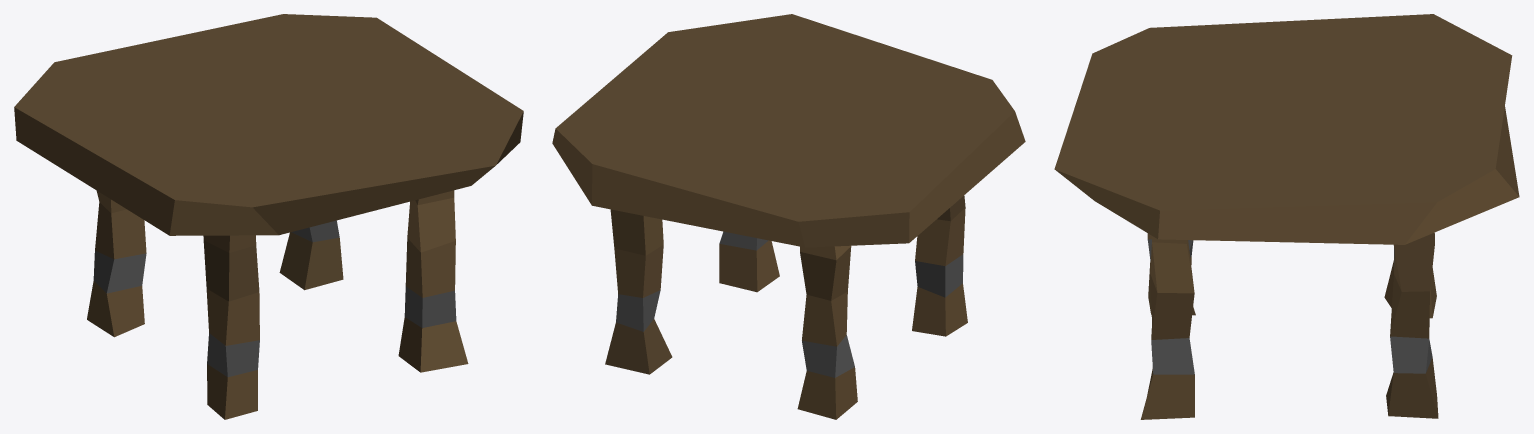
File: FlatChair.fbx
The picture shows the model from 3 angles, left to right: view 1: azimuth 30°, elevation 25°; view 2: azimuth 150°, elevation 25°; view 3: azimuth 270°, elevation 25°; orthographic projection. The views are drawn at different scales.
Parts seen in each view (by area): view 1: MiniChair; view 2: MiniChair; view 3: MiniChair.
Boxes of the visible parts, x1,y1,x2,y2 form: MiniChair: (14,14,523,419); MiniChair: (552,14,1025,419); MiniChair: (1054,14,1519,419).
Bounding box in the file's own units: 87.34 × 50.61 × 87.2.
